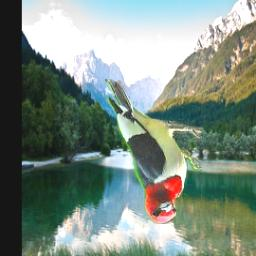Woodpecker: (103, 80, 202, 225)
